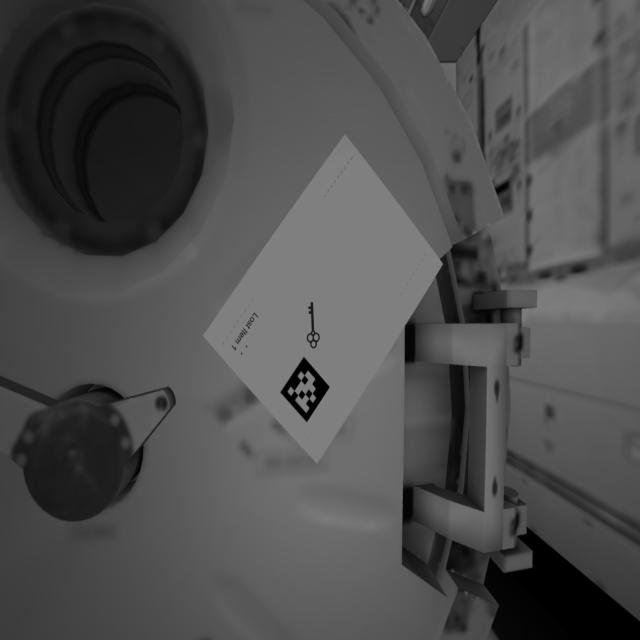key: (303, 294, 326, 358)
